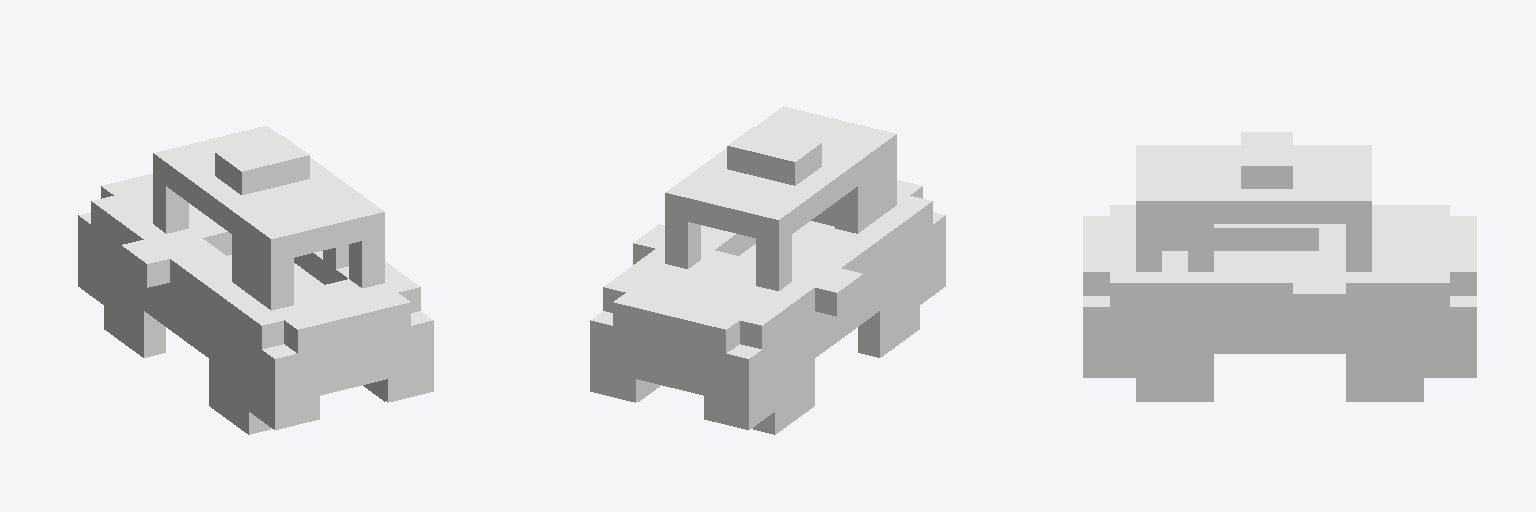
File: police.vox.obj
3 views of the same model, side by side, from view 1: azimuth 30°, elevation 25°; view 2: azimuth 150°, elevation 25°; view 3: azimuth 270°, elevation 25° (orthographic).
Visible parts, largest first — view 1: object 1; view 2: object 1; view 3: object 1.
Boxes of the visible parts, x1=… form: object 1: x1=78, y1=126, x2=433, y2=434; object 1: x1=590, y1=106, x2=945, y2=434; object 1: x1=1083, y1=132, x2=1476, y2=401.
Size of the model in its own units: 0.9 by 0.9 by 1.5.